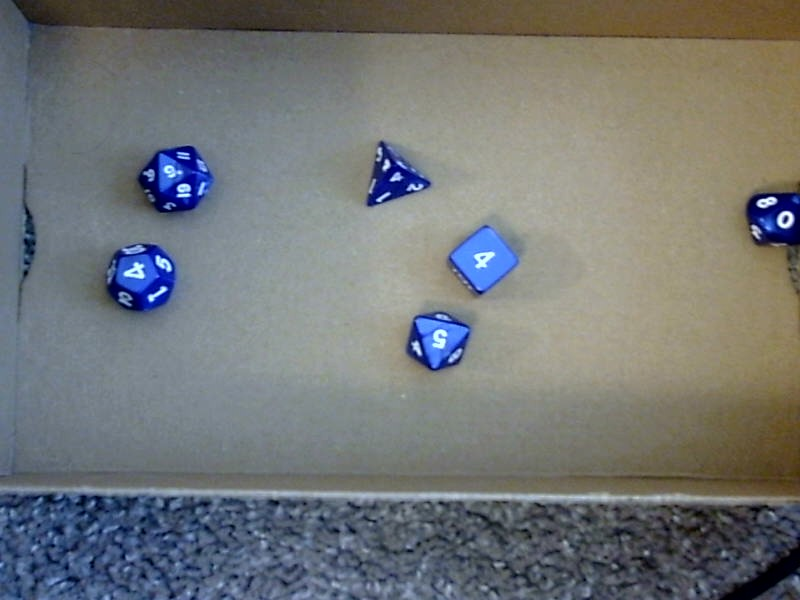d10 10: (741, 180, 799, 248)
d12 4: (99, 237, 179, 319)
d20 9: (134, 138, 213, 218)
d4 4: (363, 135, 433, 212)
d6 4: (441, 218, 522, 298)
d8 5: (398, 305, 473, 372)
